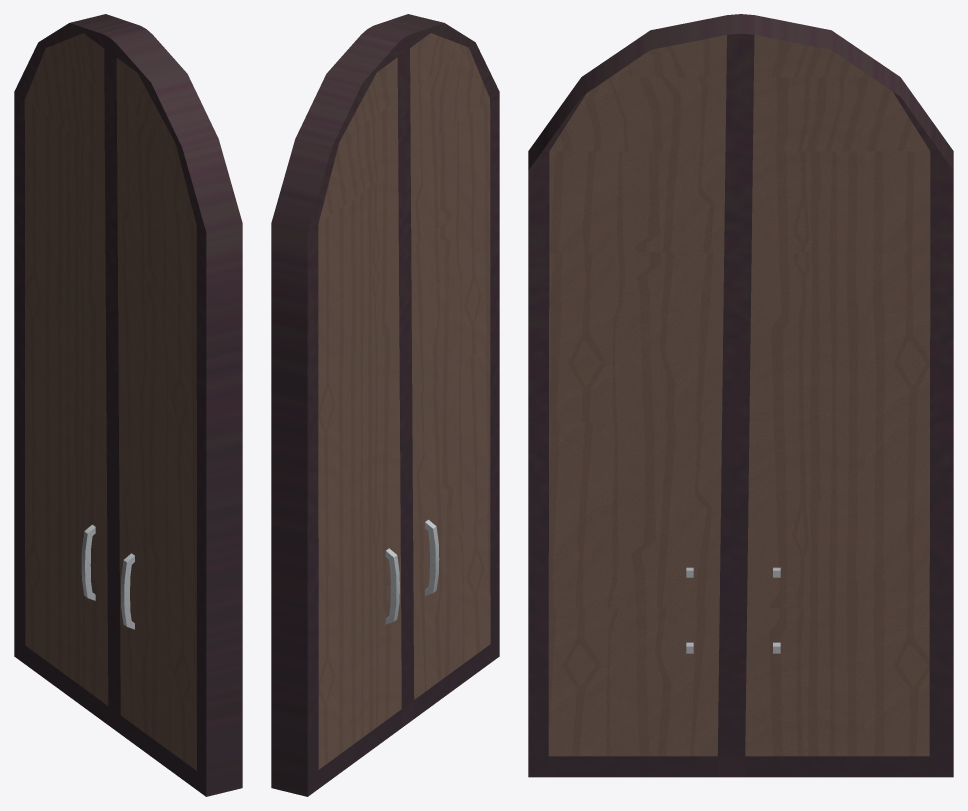
Rendered from Entrance.fbx.
3 views of the same model, side by side, from view 1: azimuth 30°, elevation 25°; view 2: azimuth 150°, elevation 25°; view 3: azimuth 270°, elevation 25° (orthographic). The views are drawn at different scales.
Parts seen in each view (by area): view 1: Door.003, Handle.002, Handle.003; view 2: Door.003, Handle.002, Handle.003; view 3: Door.003.
Part boxes in pixels (x1,y1,x2,y2): Door.003: (14,14,242,796); Handle.002: (81,524,95,600); Handle.003: (121,553,134,629); Door.003: (271,14,499,796); Handle.002: (385,548,399,624); Handle.003: (425,519,439,595); Door.003: (528,14,953,777).
Size of the model in its own units: 51.53 by 719 by 363.
